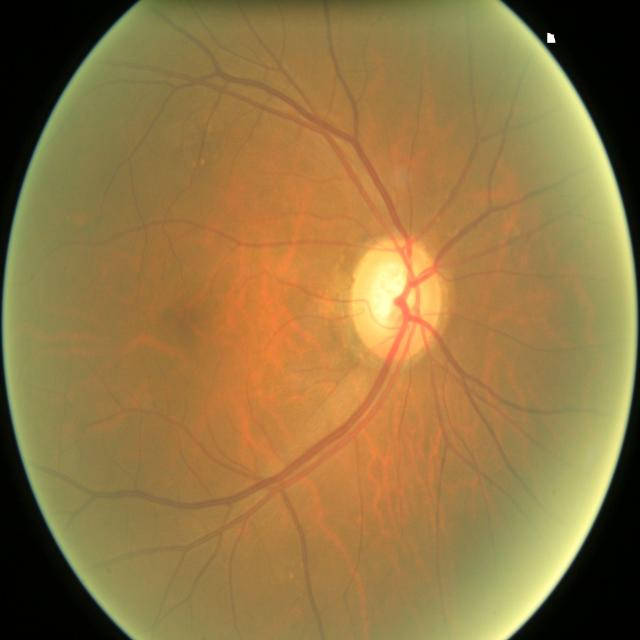OC: (368, 256, 422, 327)
OD: (346, 236, 443, 359)
